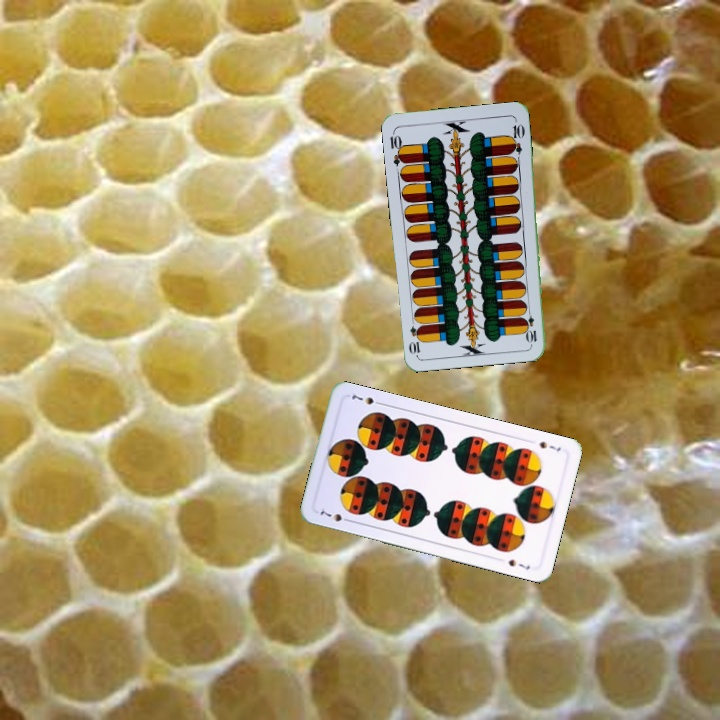E10: (386, 128, 407, 168), (522, 304, 539, 345)
S7: (316, 504, 354, 525), (535, 437, 563, 454)
